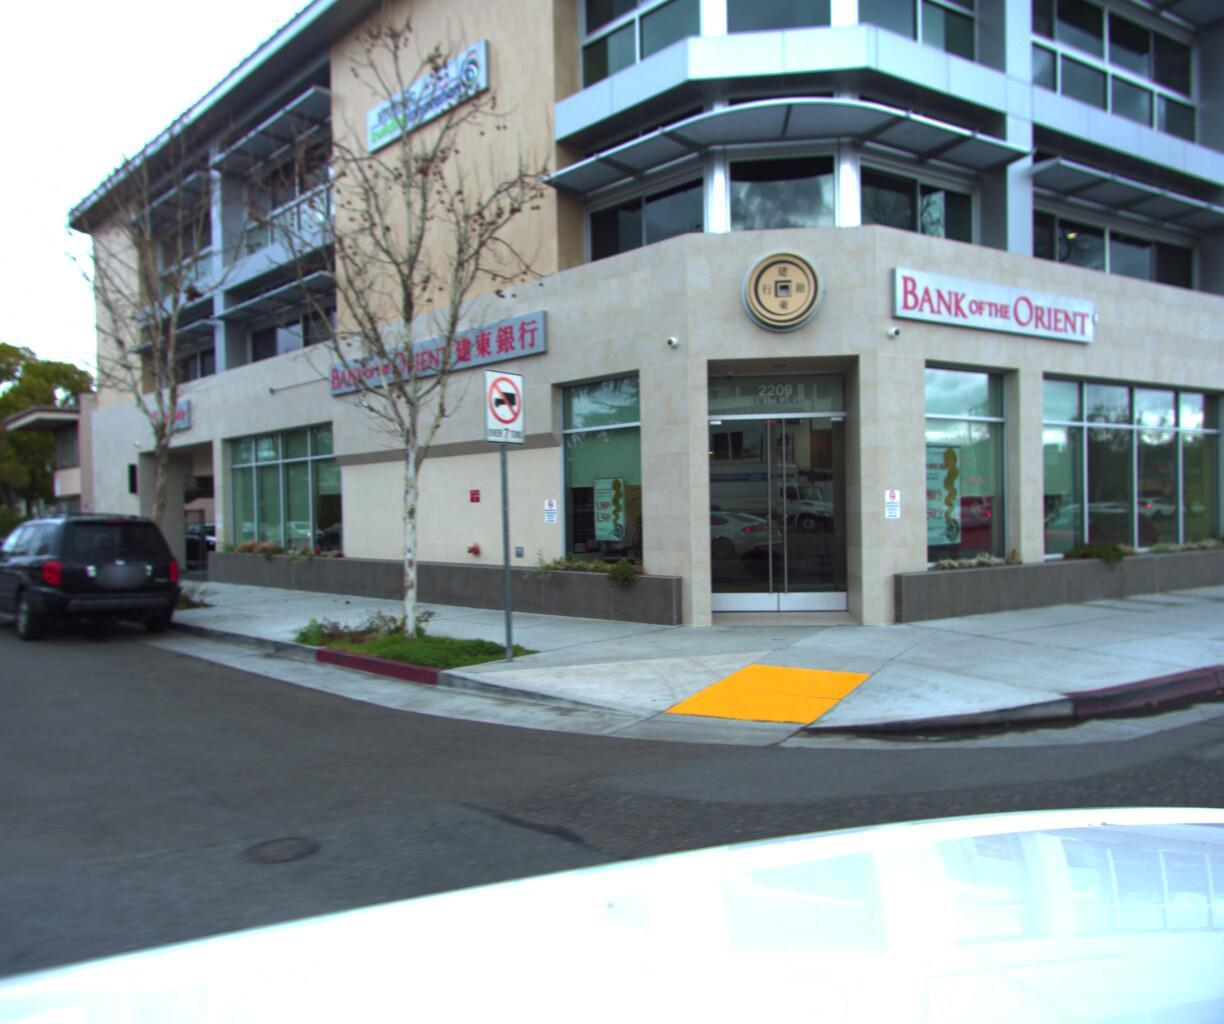car: (0, 505, 200, 651), (0, 532, 72, 626), (251, 517, 358, 565)
